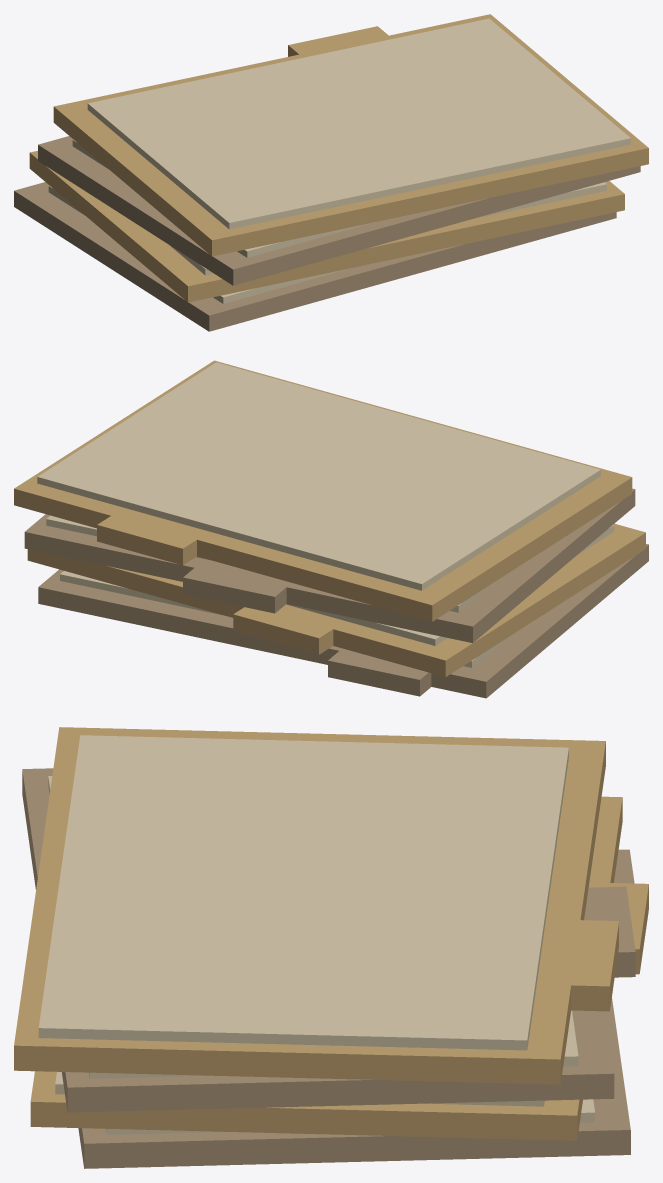
File: Bell_FolderStack.fbx
3 views of the same model, one above another, from view 1: azimuth 30°, elevation 25°; view 2: azimuth 150°, elevation 25°; view 3: azimuth 270°, elevation 25° (orthographic). The views are drawn at different scales.
Visible parts, largest first — view 1: Bell_ManilaFolderStack; view 2: Bell_ManilaFolderStack; view 3: Bell_ManilaFolderStack.
Part boxes in pixels (box(x1,y1,x2,y2)): Bell_ManilaFolderStack: box(14, 14, 648, 331); Bell_ManilaFolderStack: box(14, 360, 648, 698); Bell_ManilaFolderStack: box(14, 727, 648, 1168).
Size of the model in its own units: 0.3024 by 0.056 by 0.2296.
